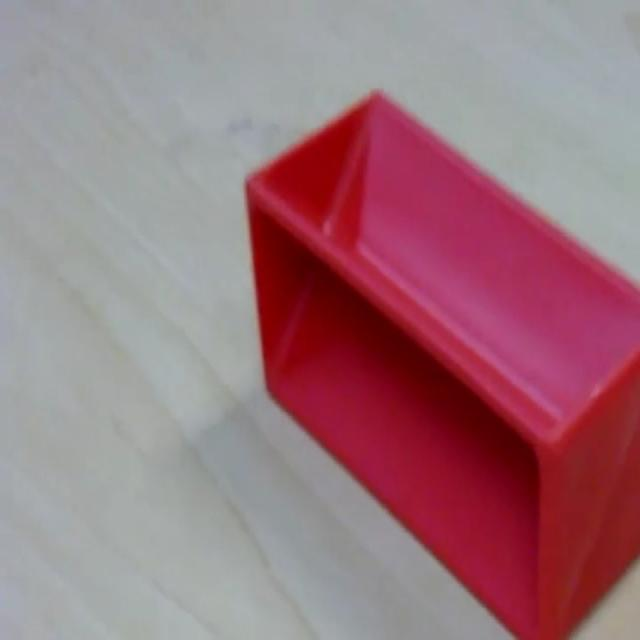red_block: (243, 87, 639, 636)
